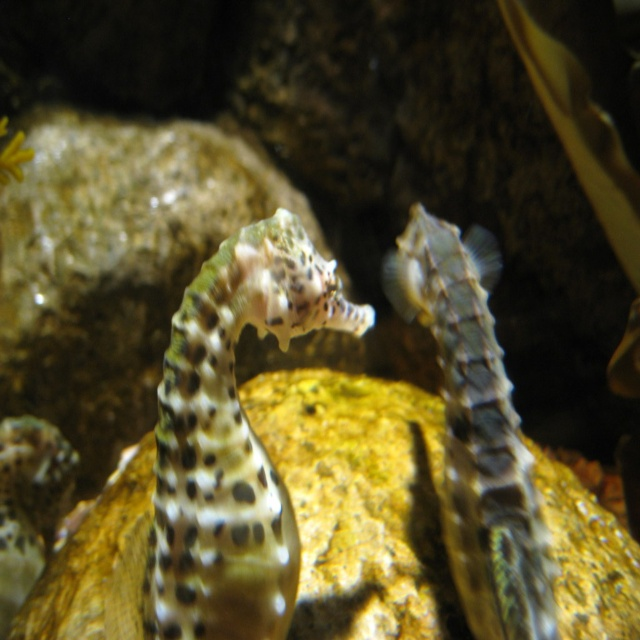Seahorse: (113, 208, 375, 640), (379, 202, 561, 639), (0, 412, 83, 638)
